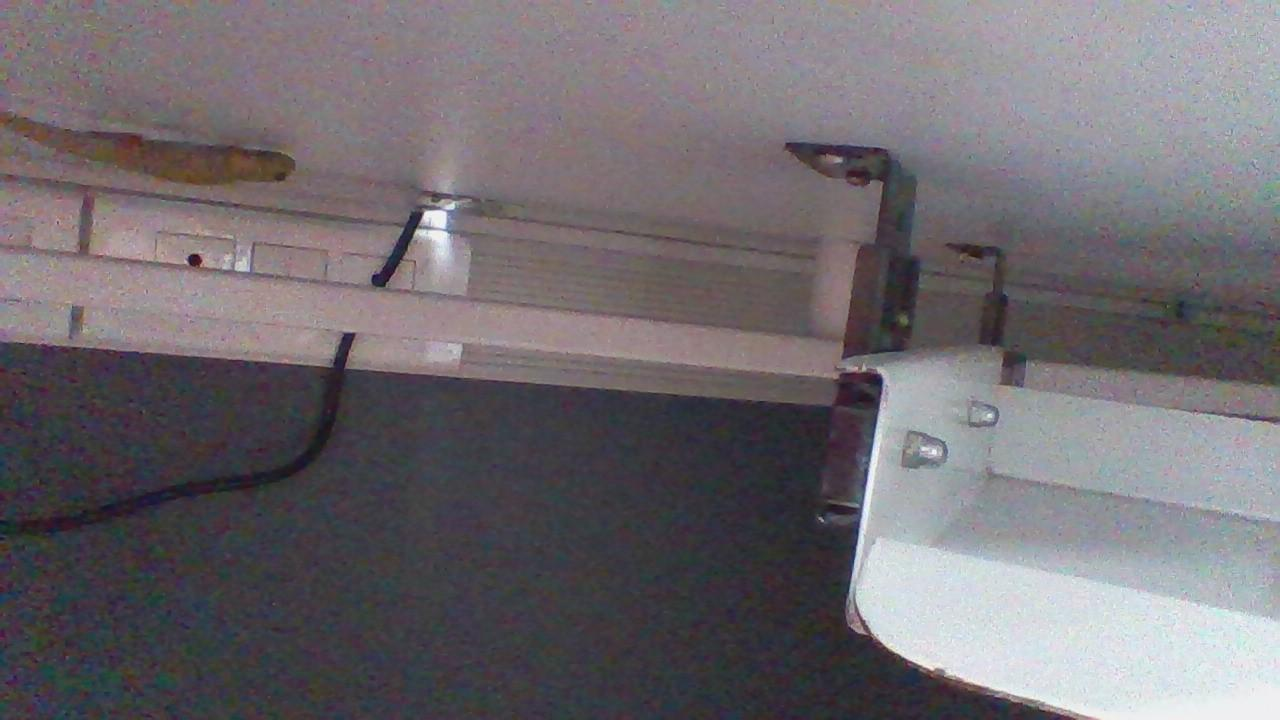lizard: (0, 73, 310, 209)
